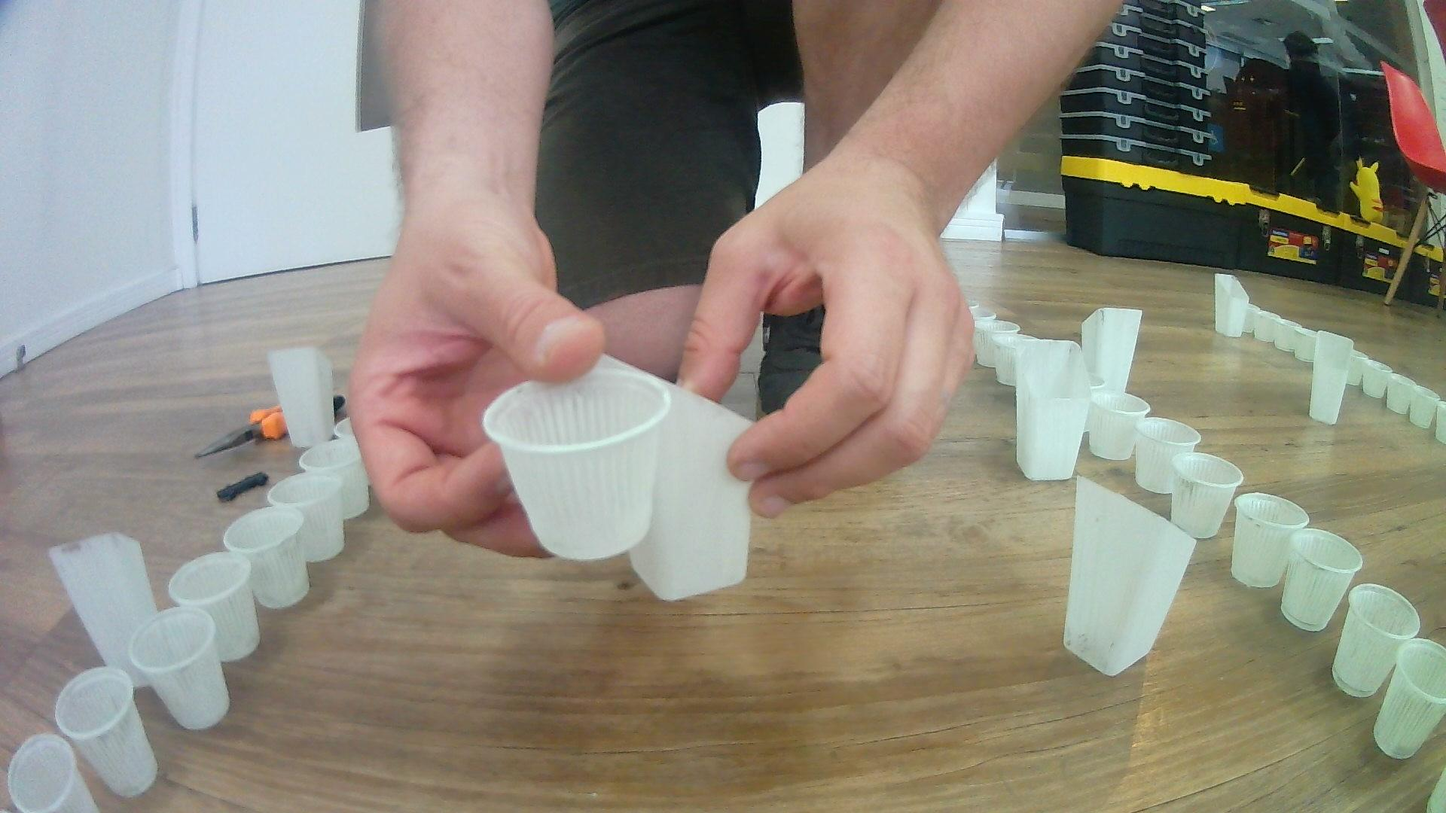erva_daninha: (600, 352, 755, 602), (1063, 474, 1195, 679), (48, 531, 161, 690), (1014, 338, 1094, 482), (267, 346, 341, 449), (1080, 307, 1144, 398), (1308, 330, 1355, 425), (1213, 273, 1249, 338)
planta: (482, 371, 675, 566), (53, 666, 162, 800), (124, 604, 232, 734), (166, 550, 262, 666), (1330, 583, 1420, 699), (222, 504, 312, 611), (1373, 636, 1446, 760), (1281, 527, 1363, 634), (1229, 492, 1310, 589), (265, 471, 347, 565), (6, 734, 102, 813), (1169, 451, 1246, 540), (297, 436, 373, 522), (1132, 416, 1202, 496), (1087, 390, 1152, 462), (992, 331, 1045, 388), (971, 320, 1021, 368), (1408, 385, 1442, 429), (1384, 373, 1416, 415), (1260, 313, 1295, 350), (1241, 305, 1275, 343), (1278, 324, 1314, 359), (1362, 359, 1393, 399), (967, 307, 998, 346), (1297, 330, 1322, 363), (1344, 351, 1366, 388), (1433, 401, 1446, 445)
